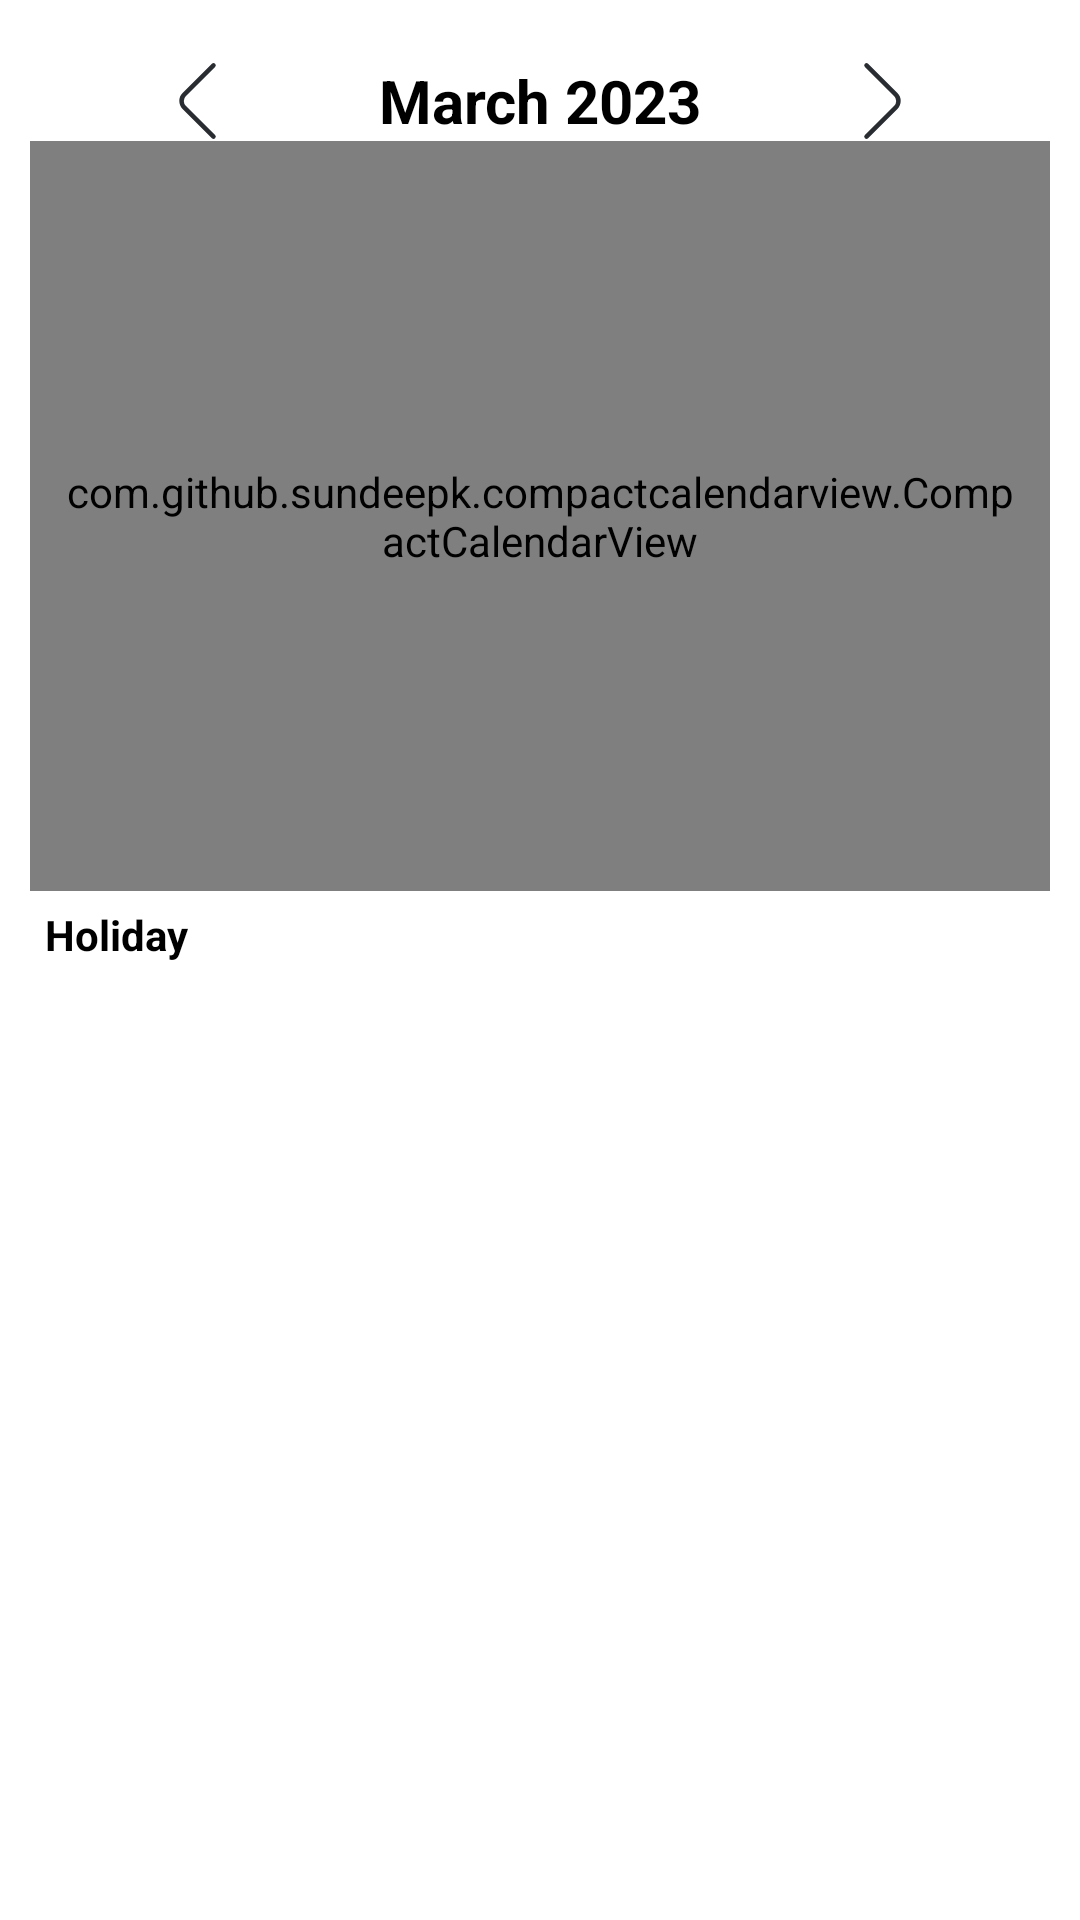

Where icons sit on this 1080px x 1920px app screen, as (x1, y1, x2, y2):
back: (179, 63, 216, 139)
next: (864, 63, 901, 139)
